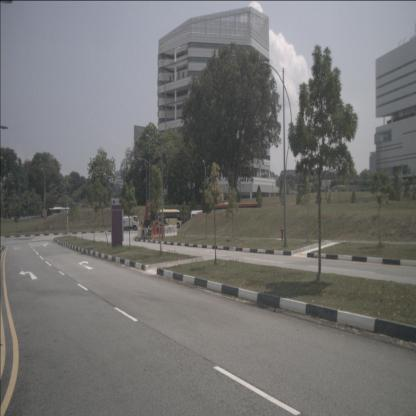barrier: (150, 226, 166, 239), (164, 225, 178, 237), (137, 226, 143, 238)
